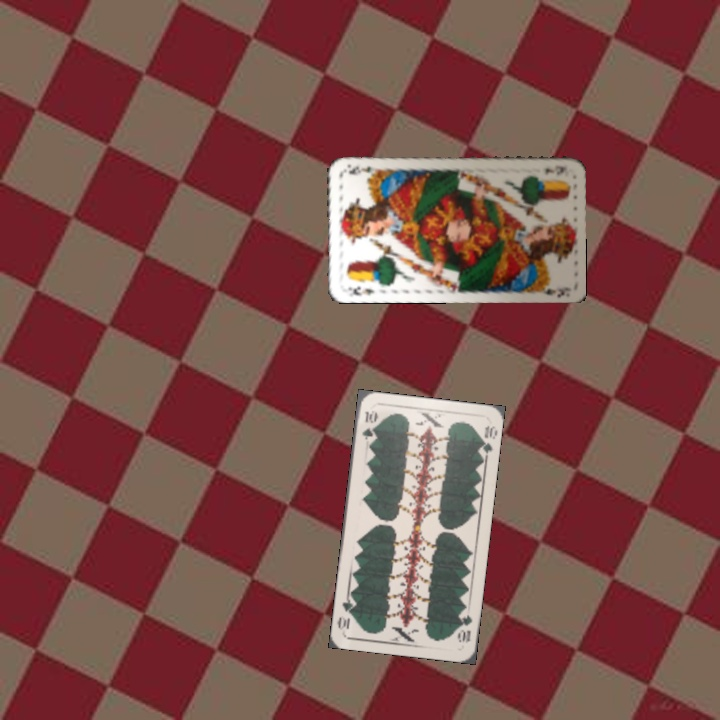EK: (344, 282, 377, 298), (541, 161, 569, 177)
G10: (454, 611, 475, 646), (358, 406, 378, 442)
